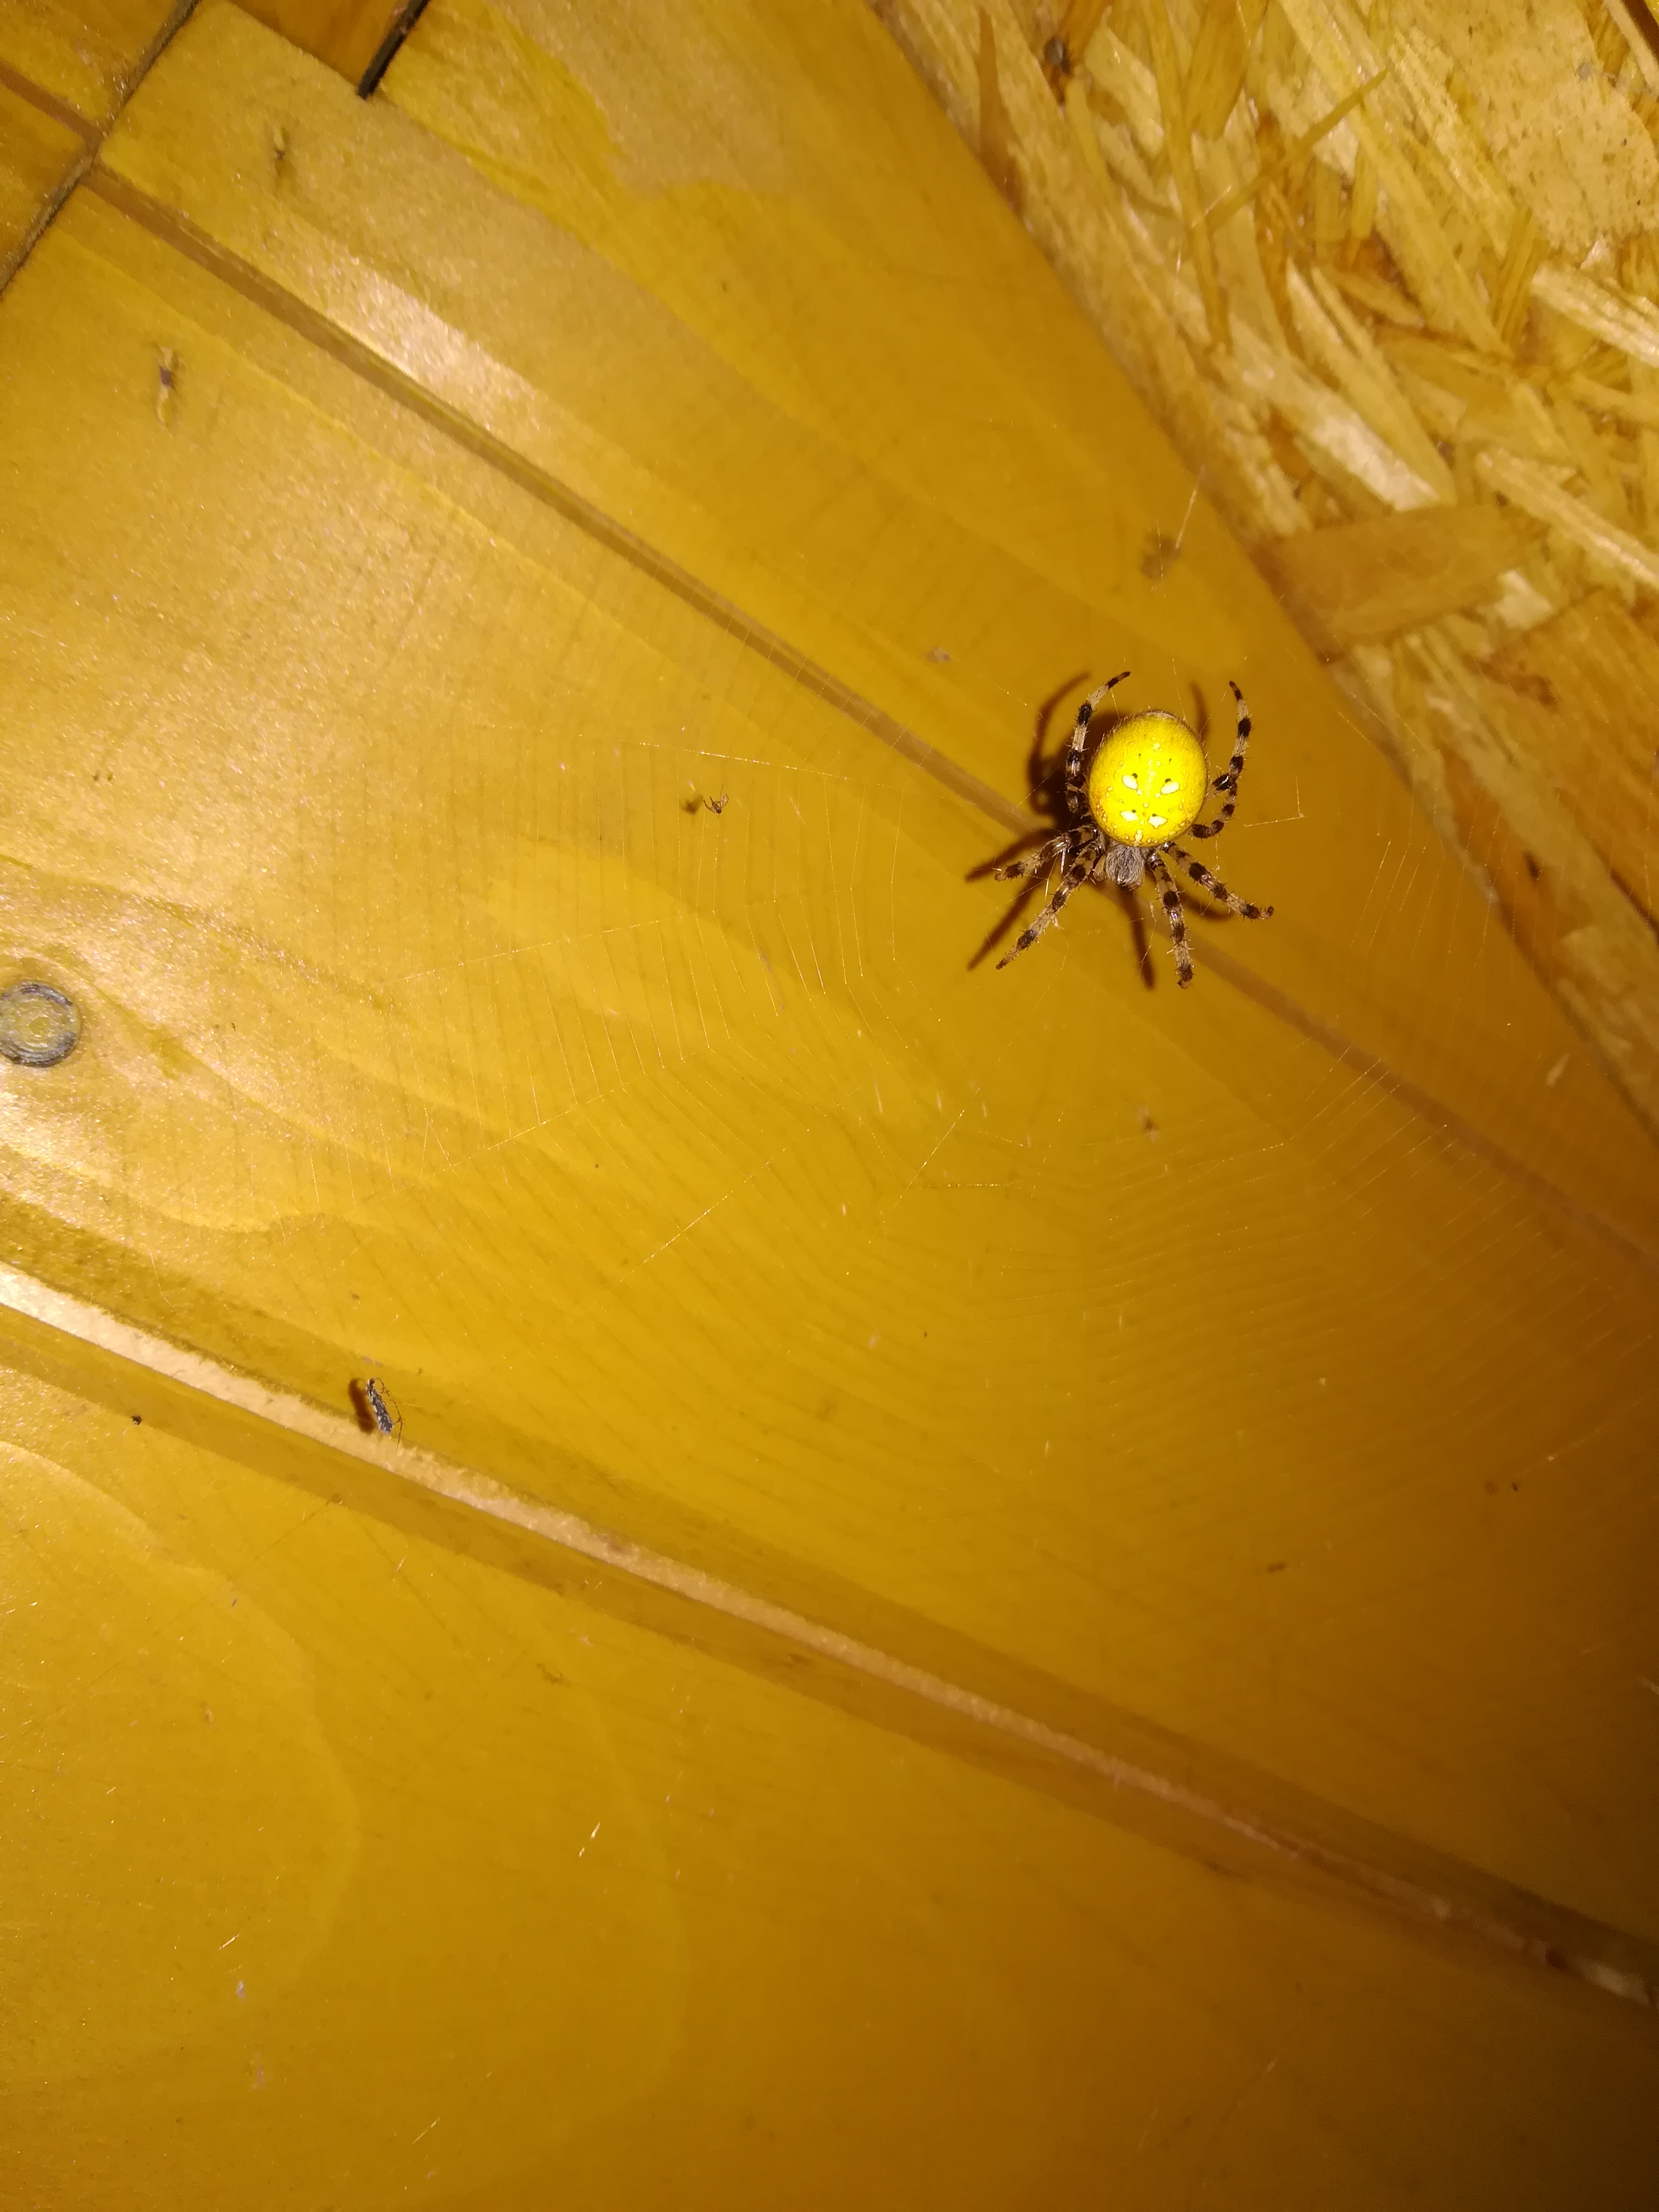spider: (946, 637, 1303, 1043)
